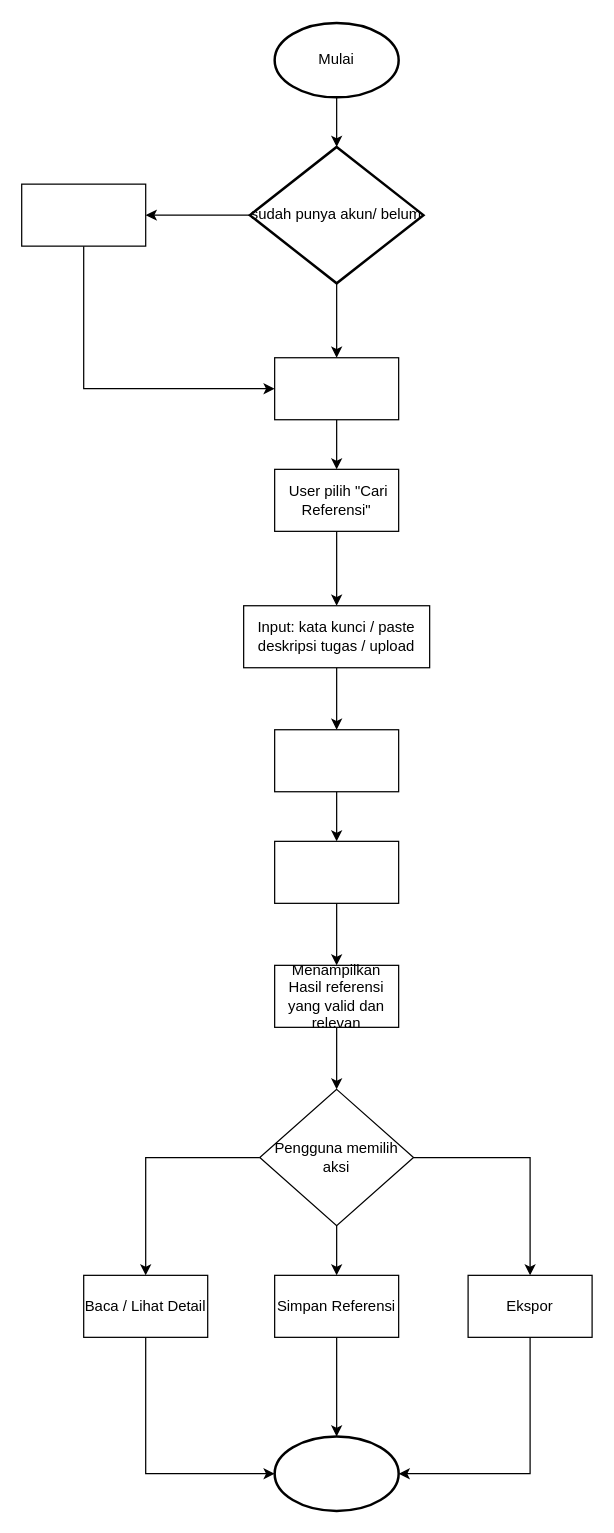
The diagram is 614 pixels wide and 1533 high, and some of its shapes have lost their labels. The centre of each missing label's shape, as x and y in pixels:
"AI menyeleksi sumber yang valid dan relevan" belongs at (x=336, y=871).
"Autentikasi & Load Preferensi user" belongs at (x=336, y=388).
"Daftar" belongs at (x=83, y=214).
"END" belongs at (x=336, y=1473).
"Sistem AI memproses dan mencari referensi" belongs at (x=336, y=760).
